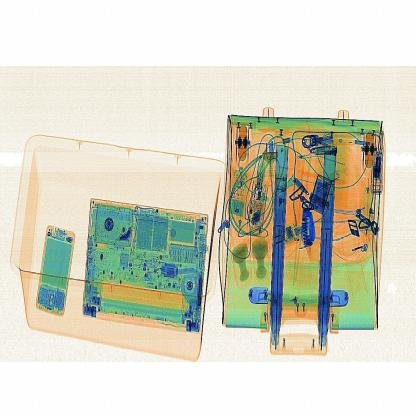scissors: (294, 196, 325, 253)
